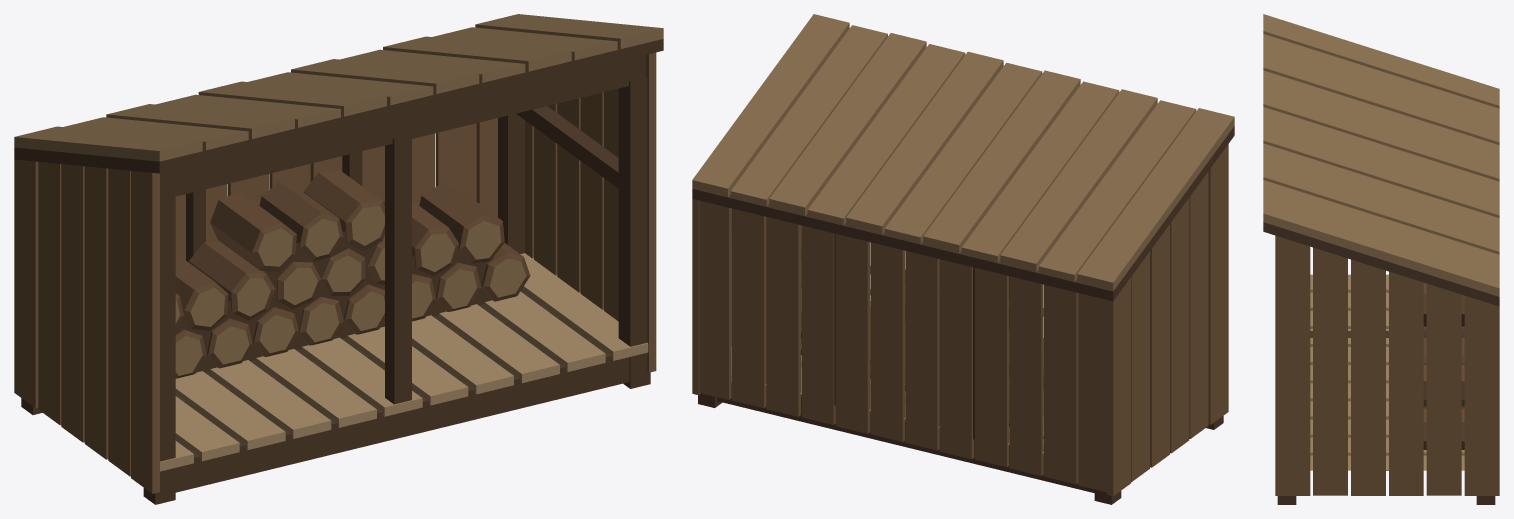
The model's file is open-woodshed-050a0a.glb.
3 renders of one model, left to right at view 1: azimuth 30°, elevation 25°; view 2: azimuth 150°, elevation 25°; view 3: azimuth 270°, elevation 25°, orthographic. The views are drawn at different scales.
Parts seen in each view (by area): view 1: woodshed-shell, log-stack; view 2: woodshed-shell; view 3: woodshed-shell, log-stack.
Part boxes in pixels (<box>): woodshed-shell: <box>14,14,663,504</box>; log-stack: <box>175,170,530,378</box>; woodshed-shell: <box>692,14,1234,504</box>; woodshed-shell: <box>1263,14,1499,504</box>; log-stack: <box>1423,283,1464,449</box>.
Bounding box in the file's own units: 4 × 2.74 × 2.
